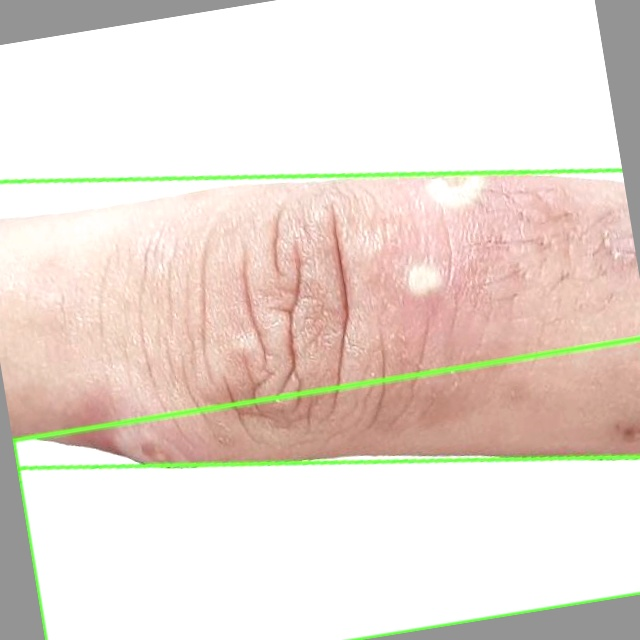Scabies: (13, 338, 639, 639), (0, 175, 639, 464)
